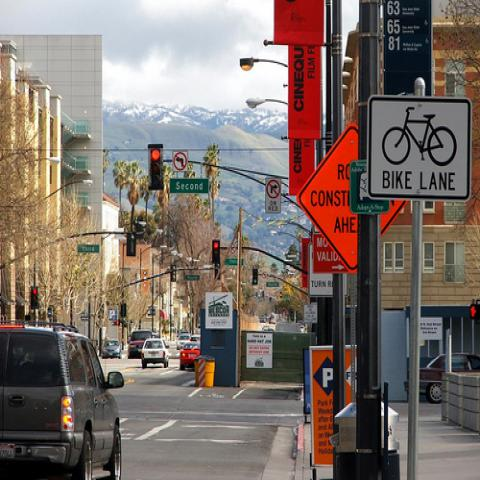car: (1, 324, 124, 474), (404, 352, 479, 406), (142, 338, 170, 368), (127, 328, 152, 361), (180, 342, 201, 371), (102, 338, 123, 362), (176, 333, 190, 350), (189, 334, 201, 344), (138, 350, 142, 352)
